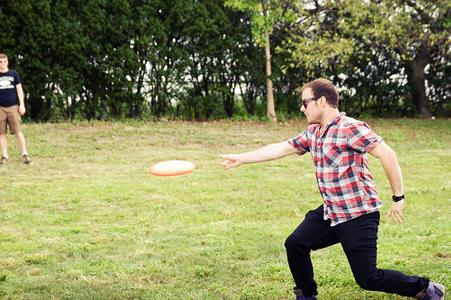person: (220, 77, 447, 300)
